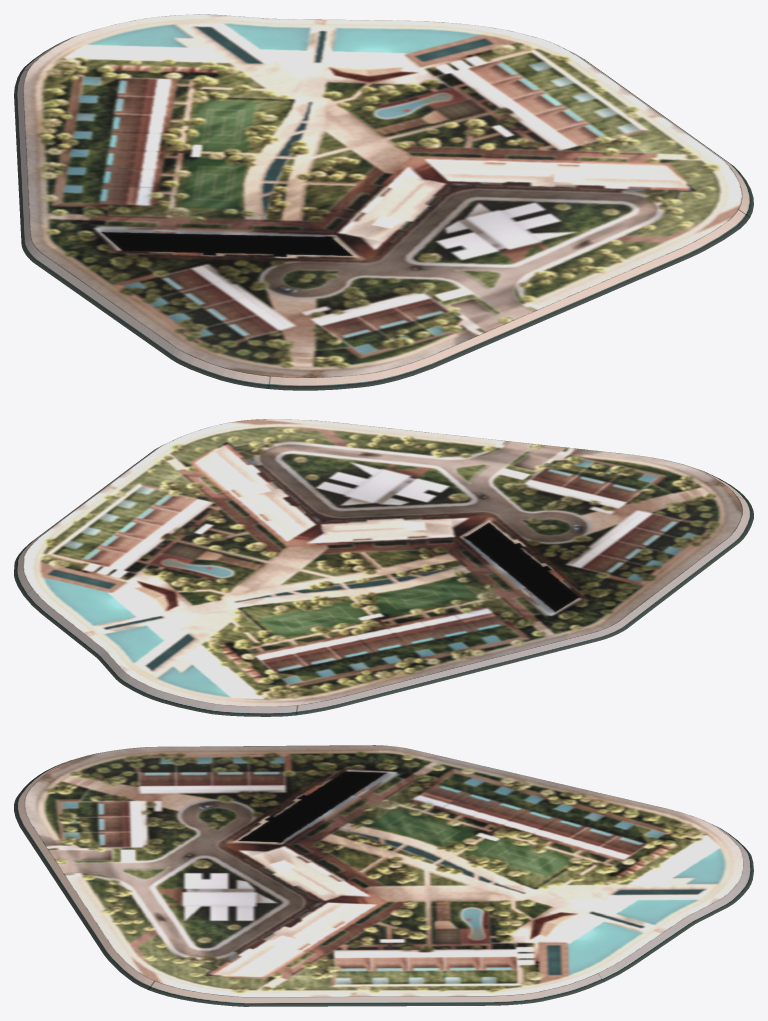
File: isla.dae
The picture shows the model from 3 angles, top to bottom: view 1: azimuth 30°, elevation 25°; view 2: azimuth 150°, elevation 25°; view 3: azimuth 270°, elevation 25°; orthographic projection. The views are drawn at different scales.
Visible parts, largest first — view 1: isla; view 2: isla; view 3: isla.
Boxes of the visible parts, bbox=[...] form: isla: bbox=[14, 14, 753, 390]; isla: bbox=[14, 419, 753, 716]; isla: bbox=[14, 745, 753, 1006].
Bounding box in the file's own units: 225 × 2.37 × 272.
1 material, 1 textured.
